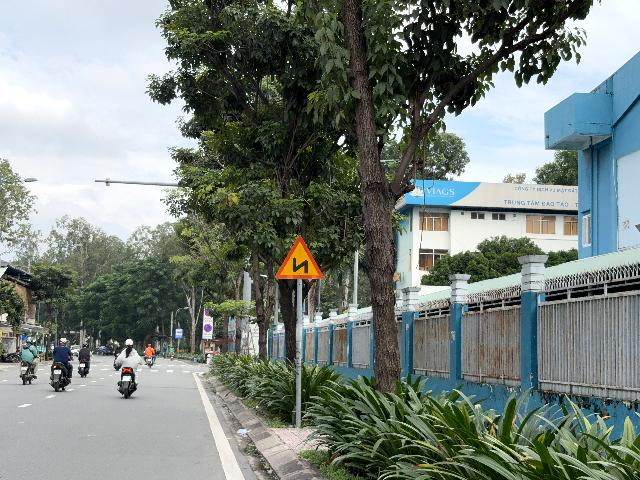nhieu-cho-ngoat-nguy-hiem-lien-tiep: (276, 236, 324, 279)
